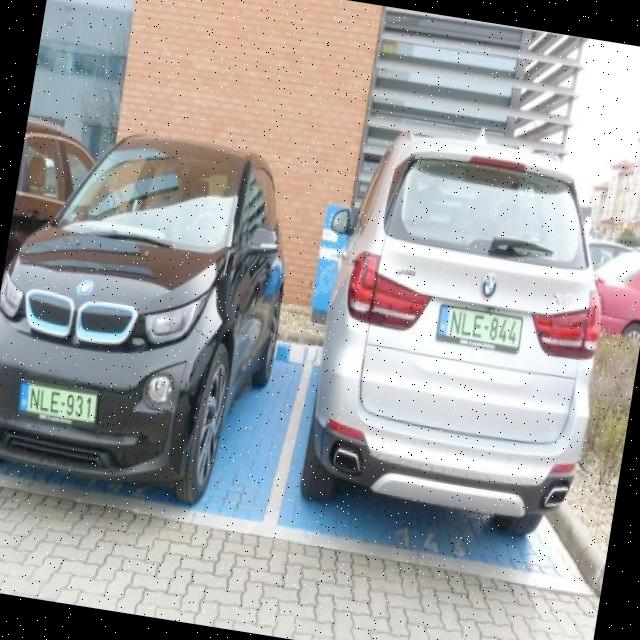licence: (435, 303, 528, 363), (17, 378, 101, 431)
